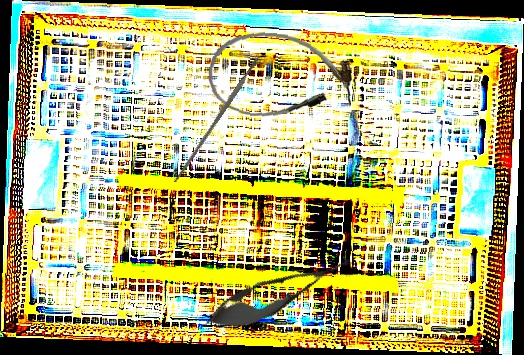Cannula: (204, 27, 357, 125)
Micro Scissor: (197, 242, 361, 343)
Scalpel Handle: (172, 56, 262, 184)
